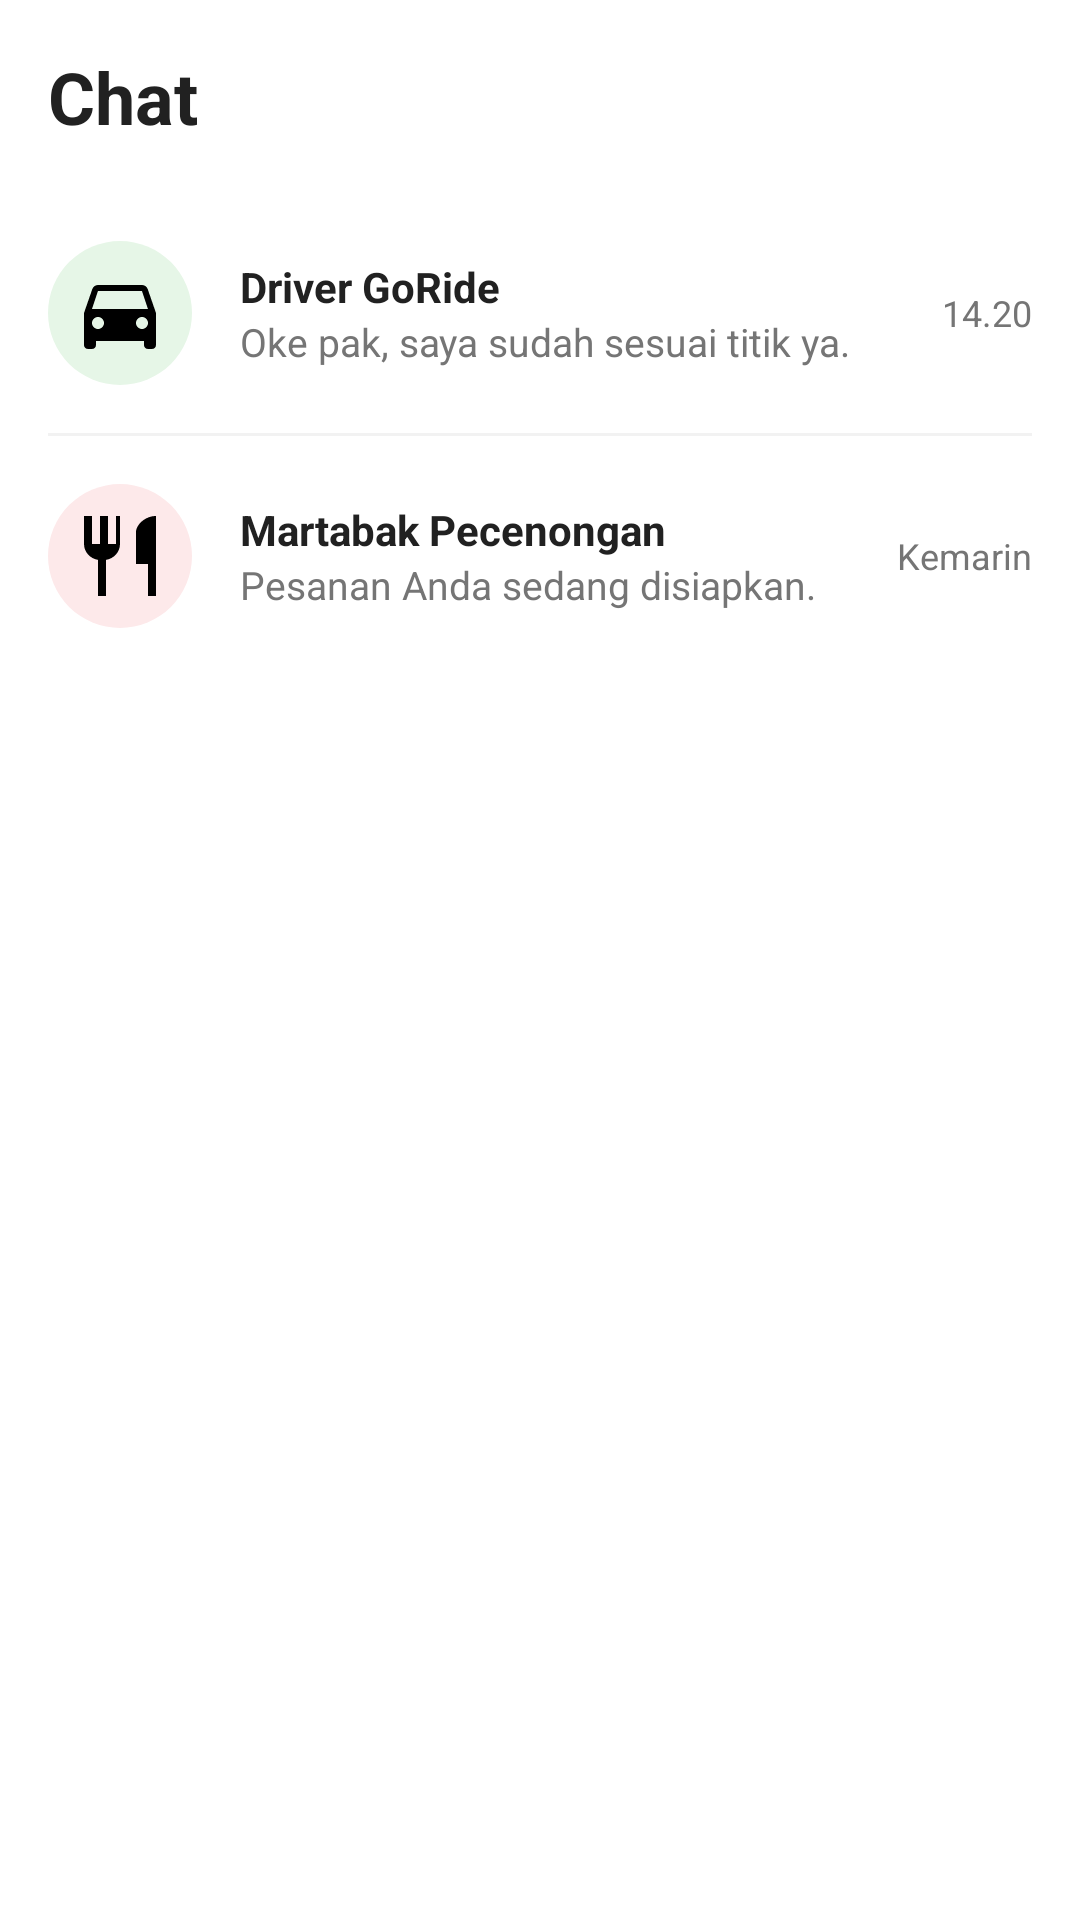

Where to tap for icons on this 1080 × 1920 app screen, as point (x, y):
food: point (120, 556)
